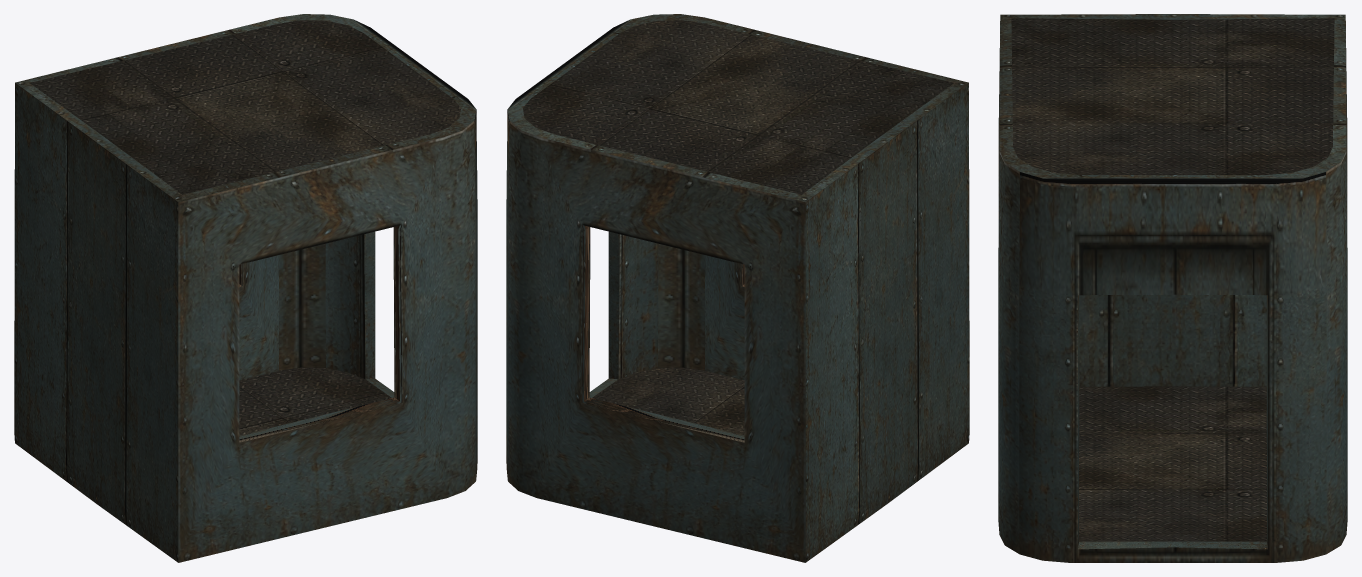
The model's file is Main.fbx.
The picture shows the model from 3 angles, left to right: view 1: azimuth 30°, elevation 25°; view 2: azimuth 150°, elevation 25°; view 3: azimuth 270°, elevation 25°; orthographic projection. The views are drawn at different scales.
Parts seen in each view (by area): view 1: Main; view 2: Main; view 3: Main.
Part boxes in pixels (left/top/right/bottom): Main: left=14, top=14, right=477, bottom=562; Main: left=506, top=14, right=969, bottom=562; Main: left=998, top=14, right=1347, bottom=562.
Bounding box in the file's own units: 390 × 415 × 343.
Materials: 1 (1 with a texture image).
